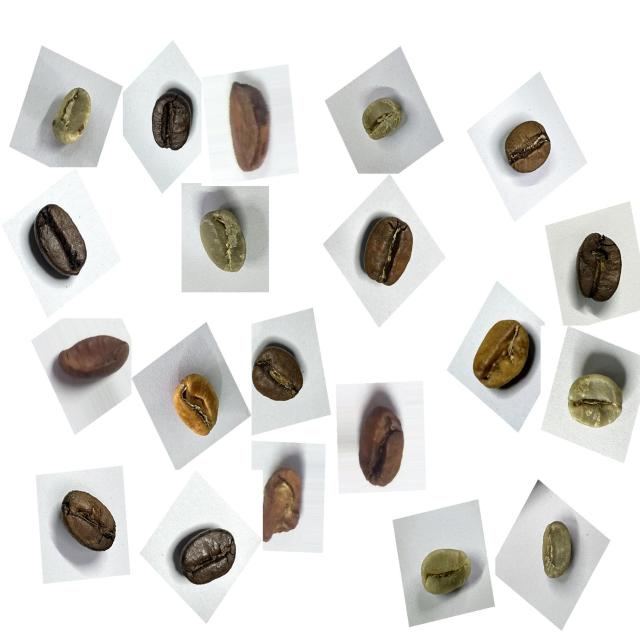bad: (345, 384, 415, 497), (214, 74, 283, 183), (47, 322, 131, 399), (252, 456, 314, 548)
dark: (20, 192, 96, 290), (171, 515, 247, 599), (140, 82, 202, 165)
green: (186, 199, 260, 290), (558, 359, 634, 446), (411, 534, 481, 609), (42, 78, 104, 158), (526, 512, 583, 592), (352, 87, 412, 152)
light: (461, 307, 538, 403), (165, 366, 232, 448)
medium: (352, 205, 425, 298), (50, 481, 126, 570), (565, 222, 634, 314), (245, 336, 314, 416), (495, 112, 560, 188)
